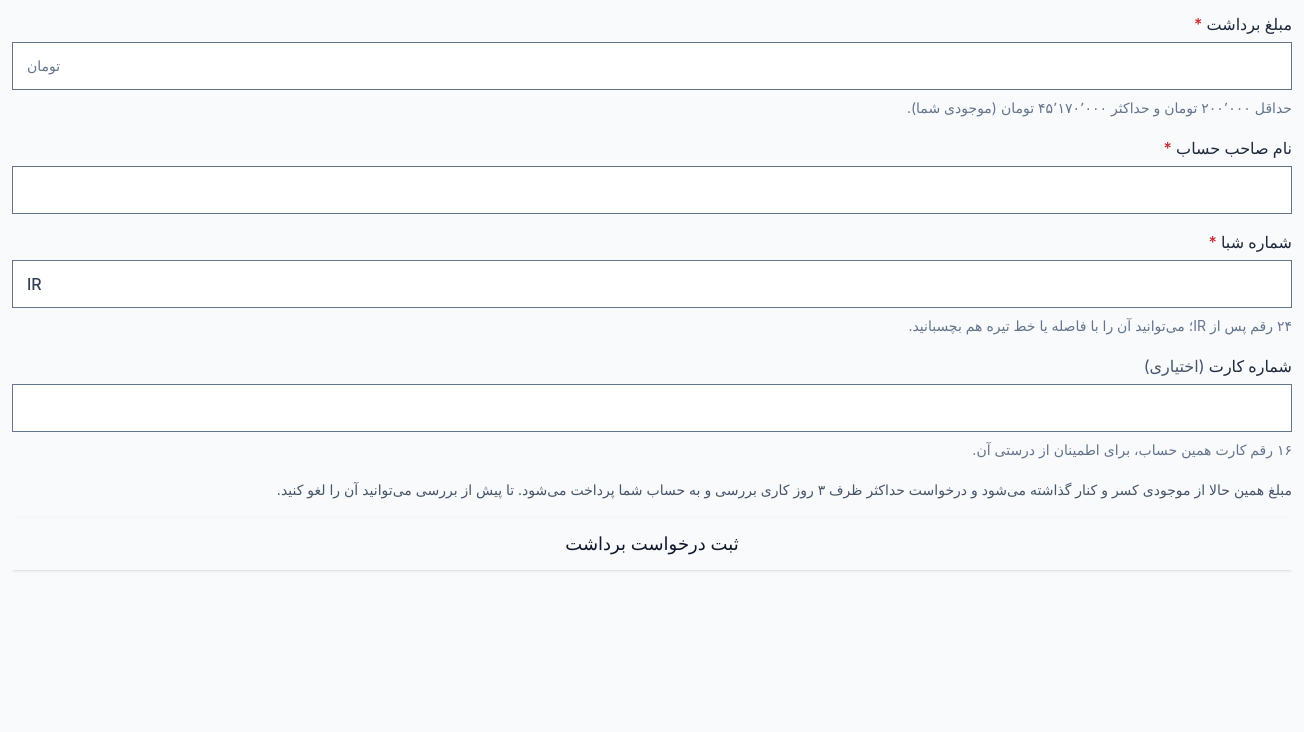
Test: the API’s answers › 429 (five an hour): the wait on the button; nothing sent meanwhile
Later steps or results of the test are not shown.
Type "300000" into the field labelled "مبلغ برداشت *" at coordinates (676, 66), box [60,43,1291,89]
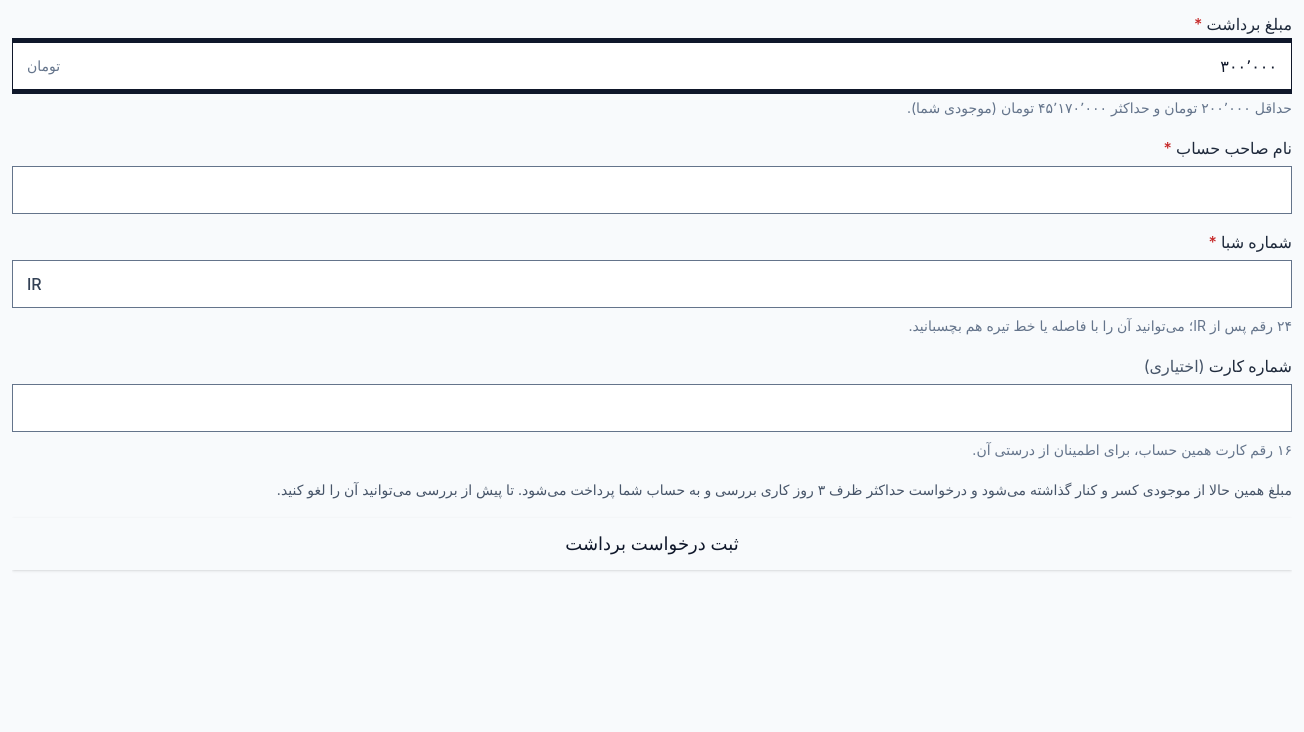
Type "شیرین تهرانی" into the field labelled "نام صاحب حساب *" at coordinates (652, 190), box [13,167,1291,213]
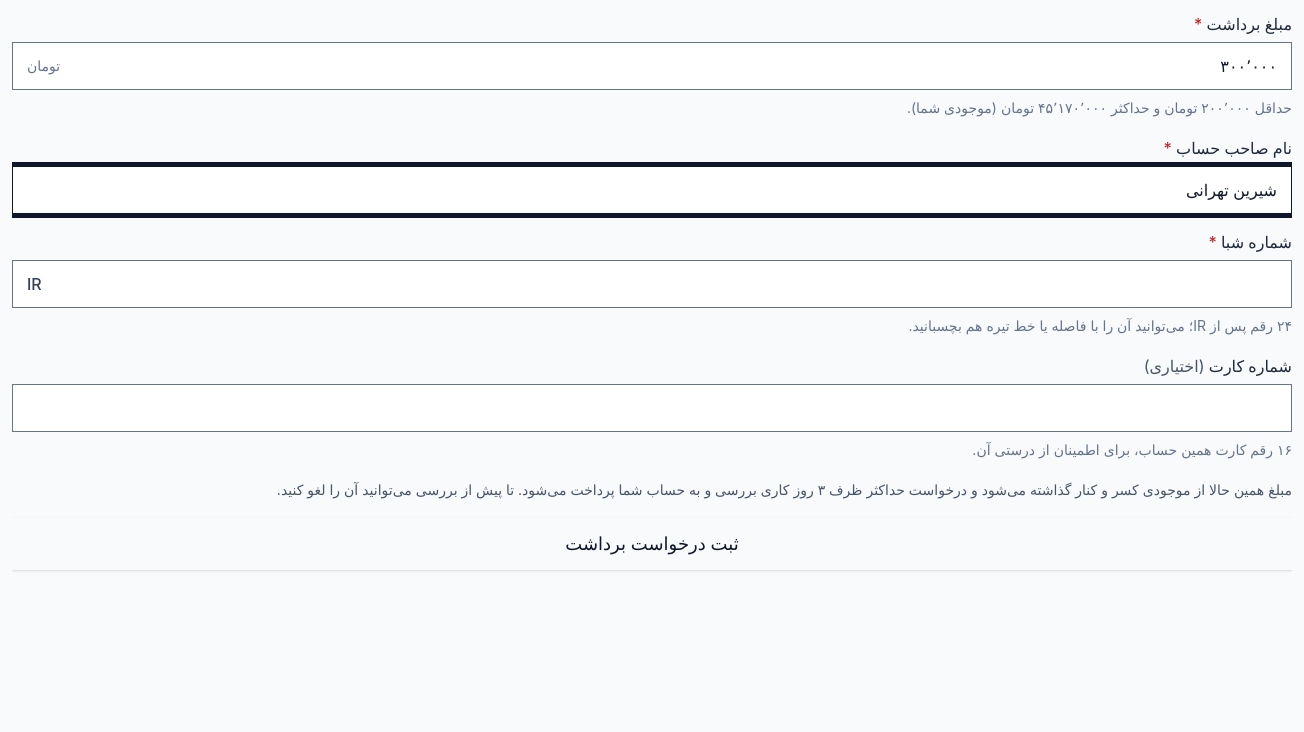
Click the field labelled "شماره شبا *" at coordinates (666, 284), box [42,261,1291,307]
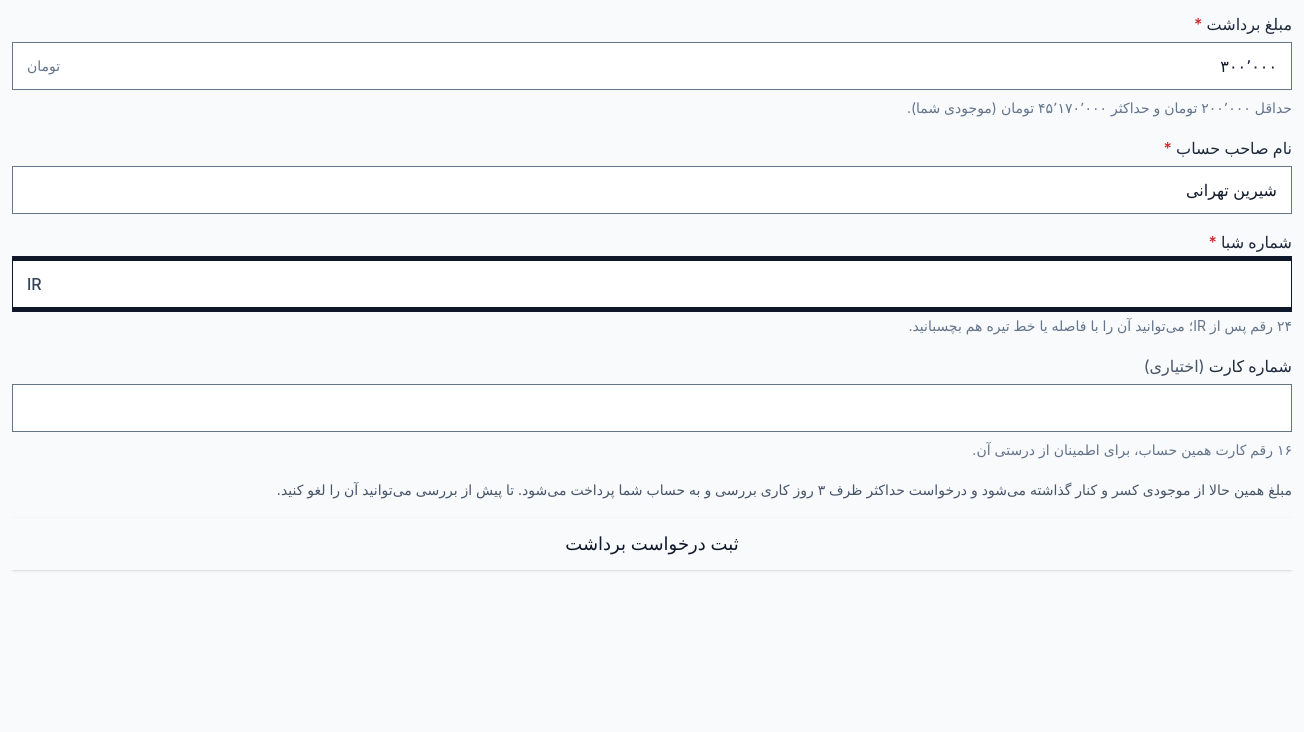
Type keys "IR062960000000100324200001"
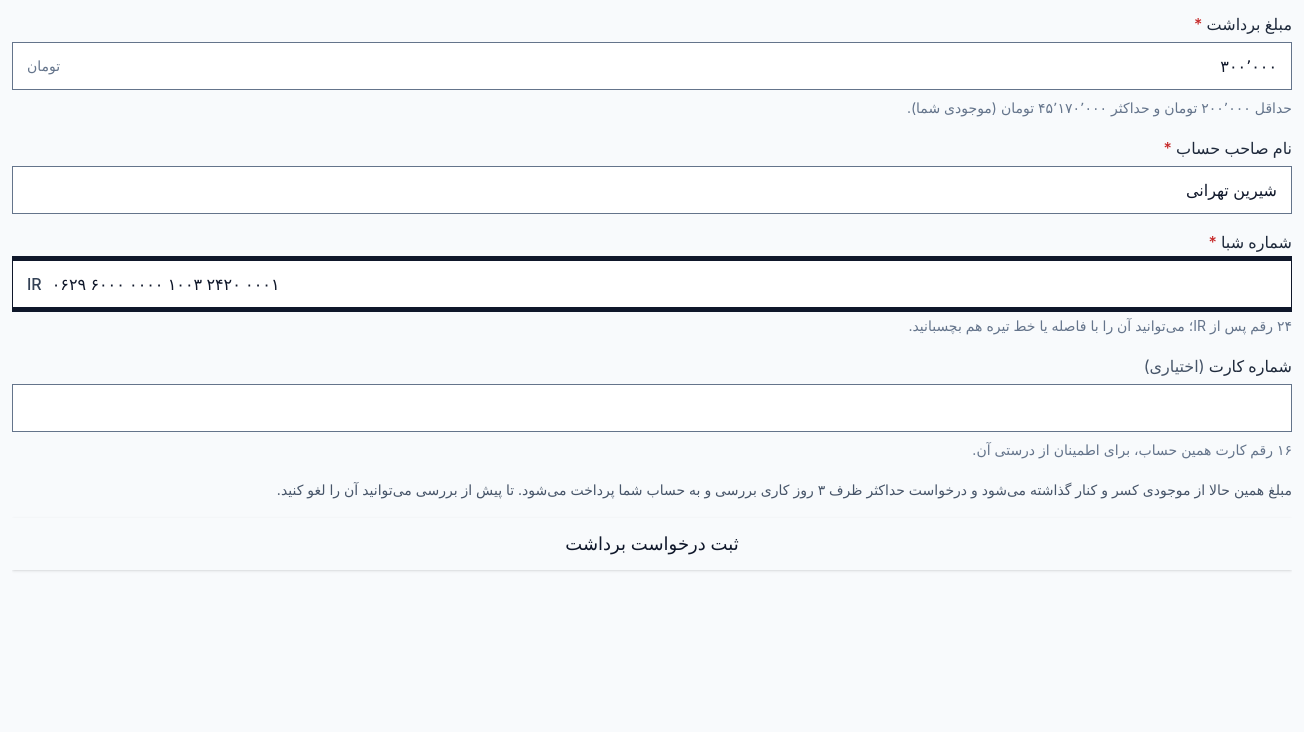
Click the button "ثبت درخواست برداشت" at coordinates (652, 544), box [12,518,1292,570]
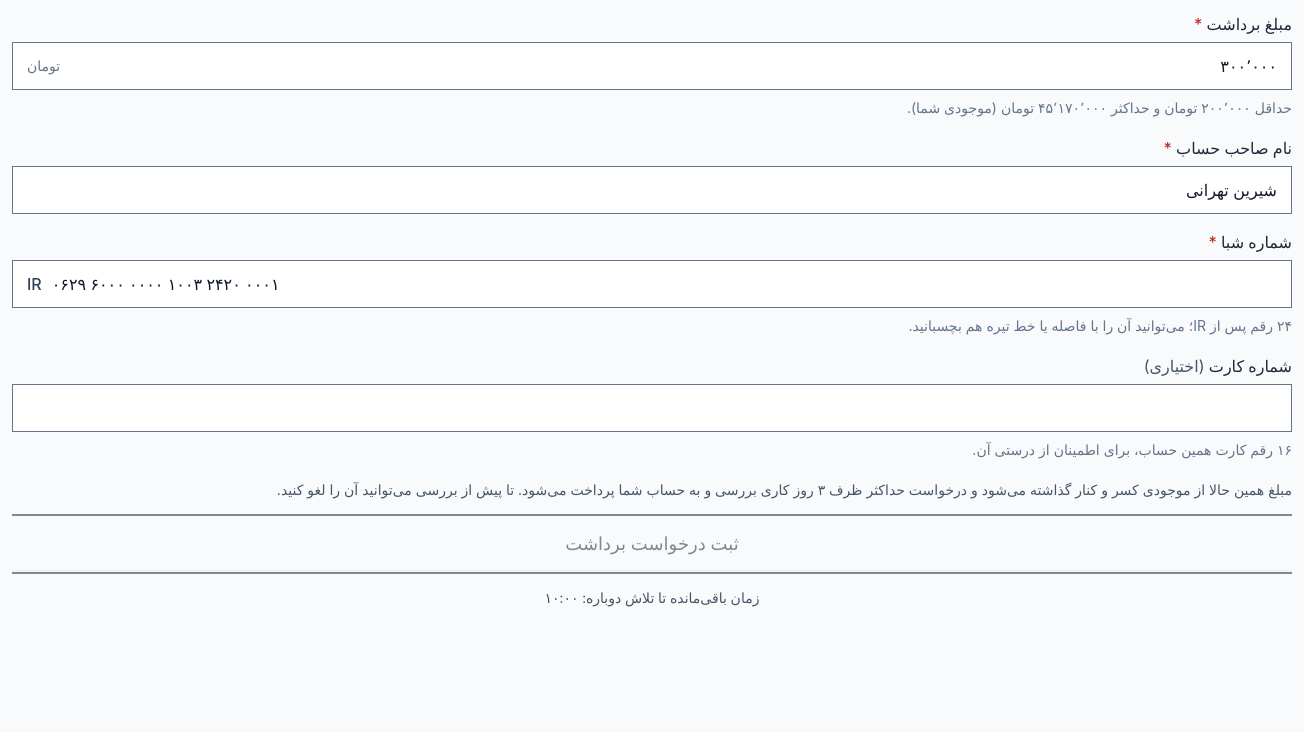
Expected: the text "زمان باقی‌مانده تا تلاش دوباره: ۱۰:۰۰" is shown, [545,589,759,606]
